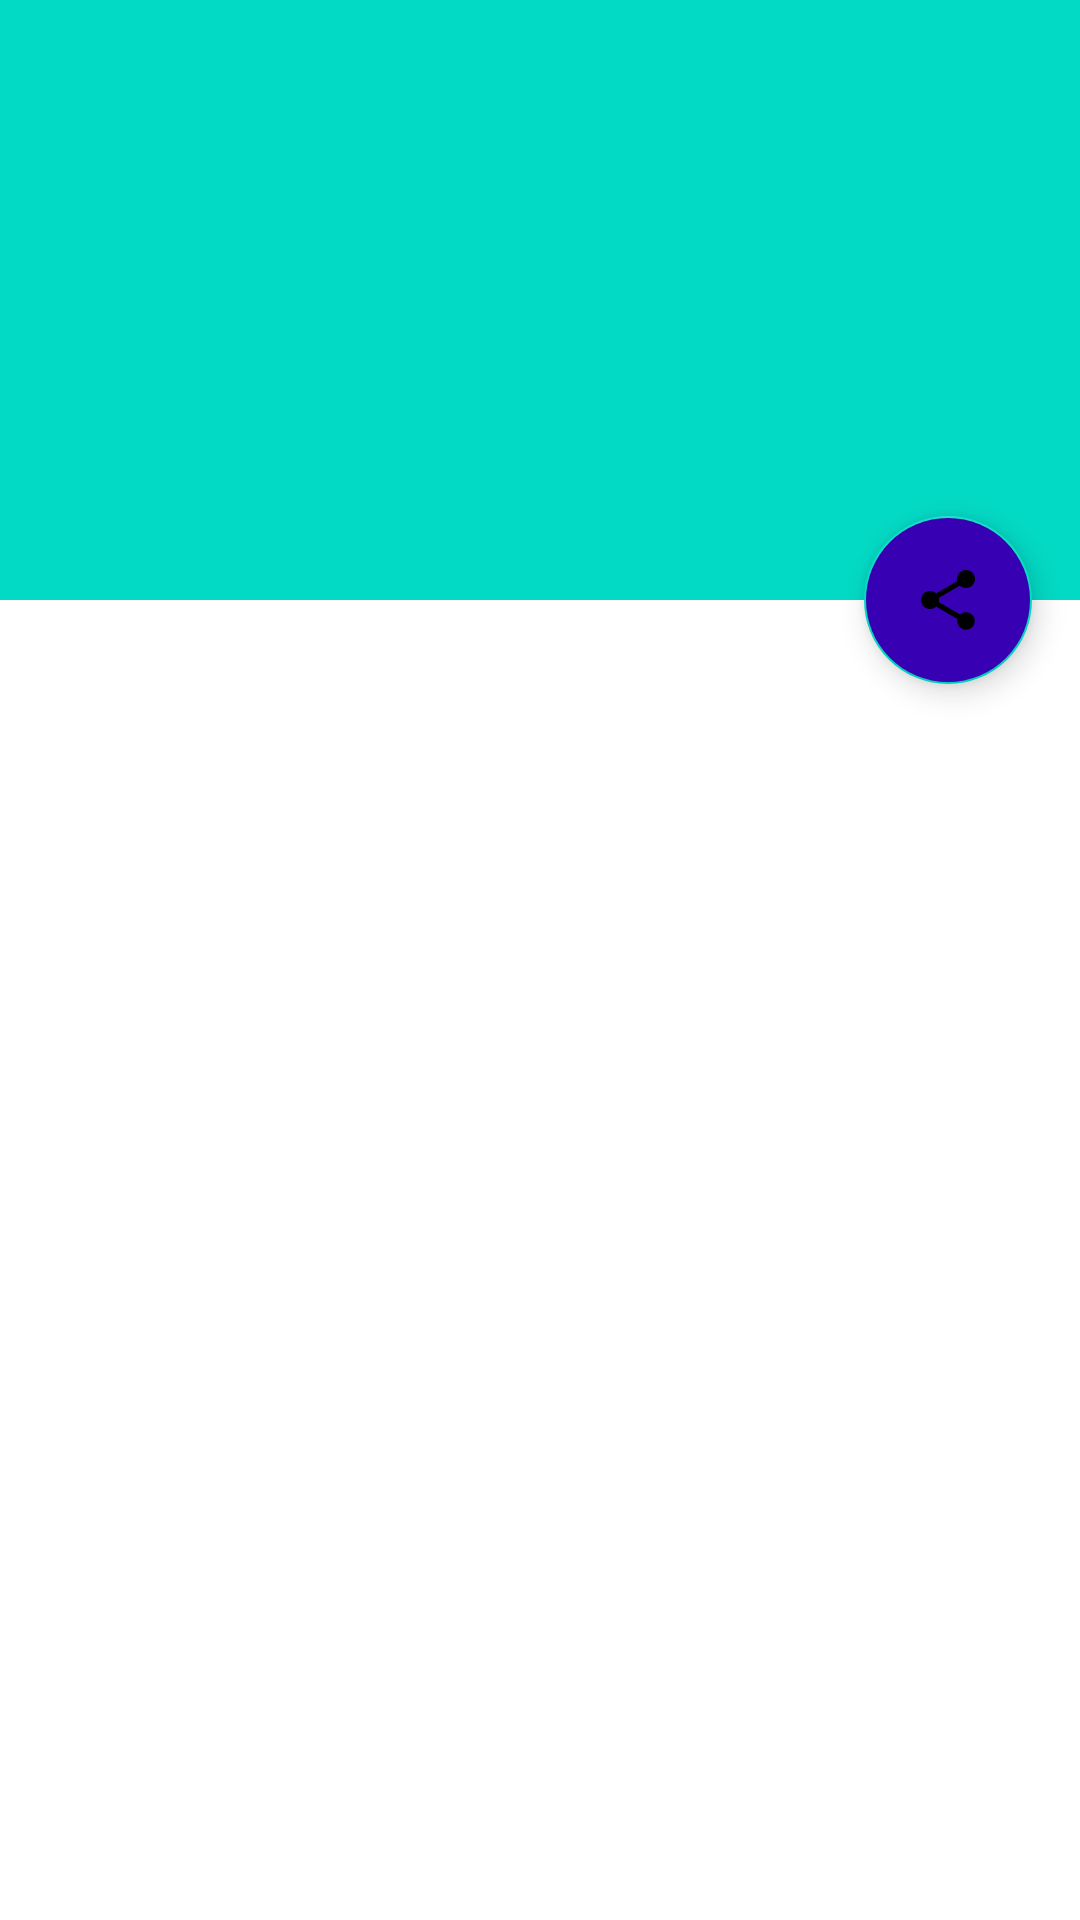

Icon click points for this 1080px x 1920px phone screenshot, format (x=x, y=y):
share: (x=948, y=600)
